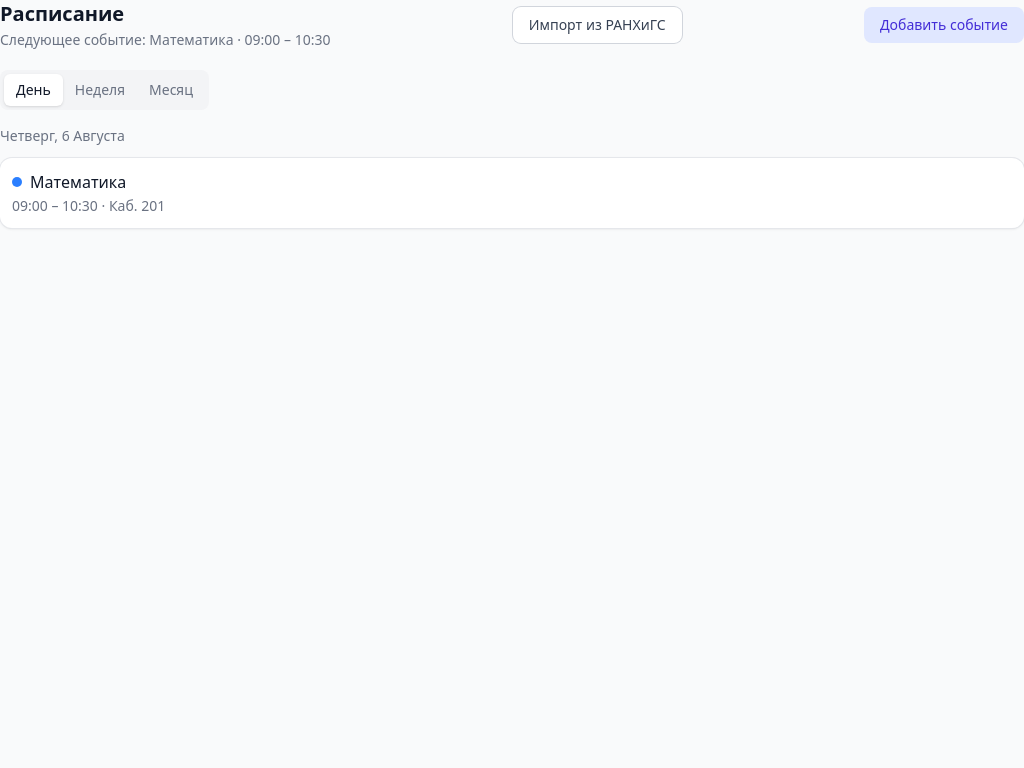
Test: SchedulePage › adds a lesson via the modal form
Click the button "Добавить событие". click: click(944, 25)
box: x1=864 y1=7 x2=1023 y2=43
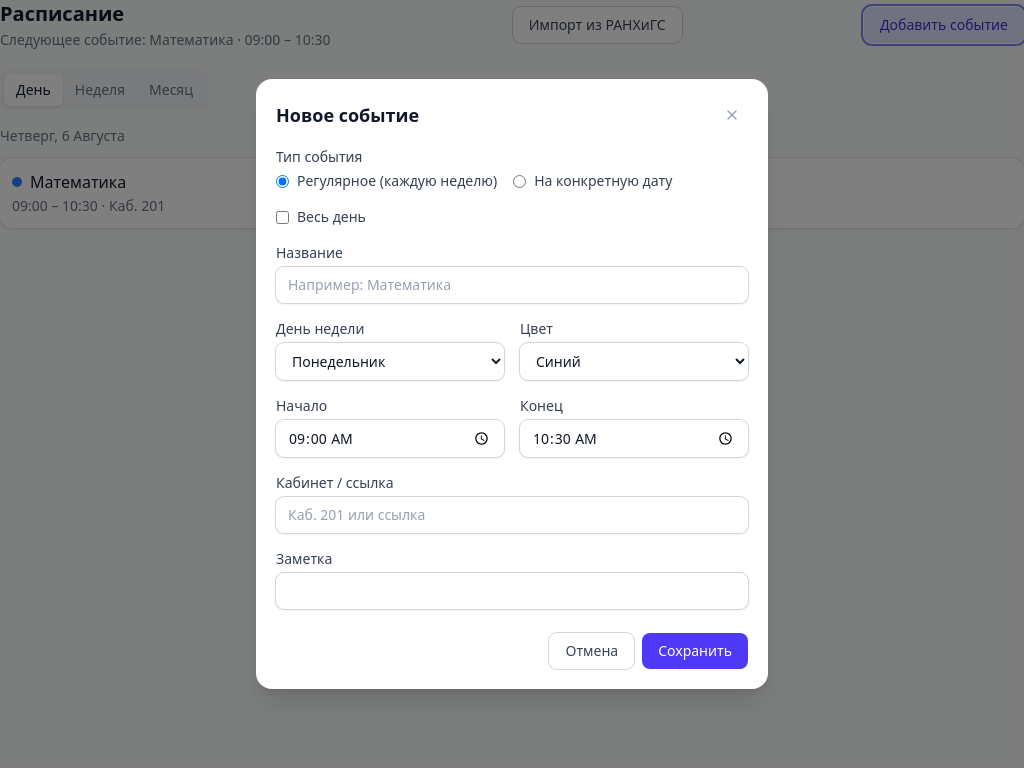
Type "Физика" into the field labelled "Название". click: (512, 285)
box: x1=276 y1=267 x2=748 y2=303
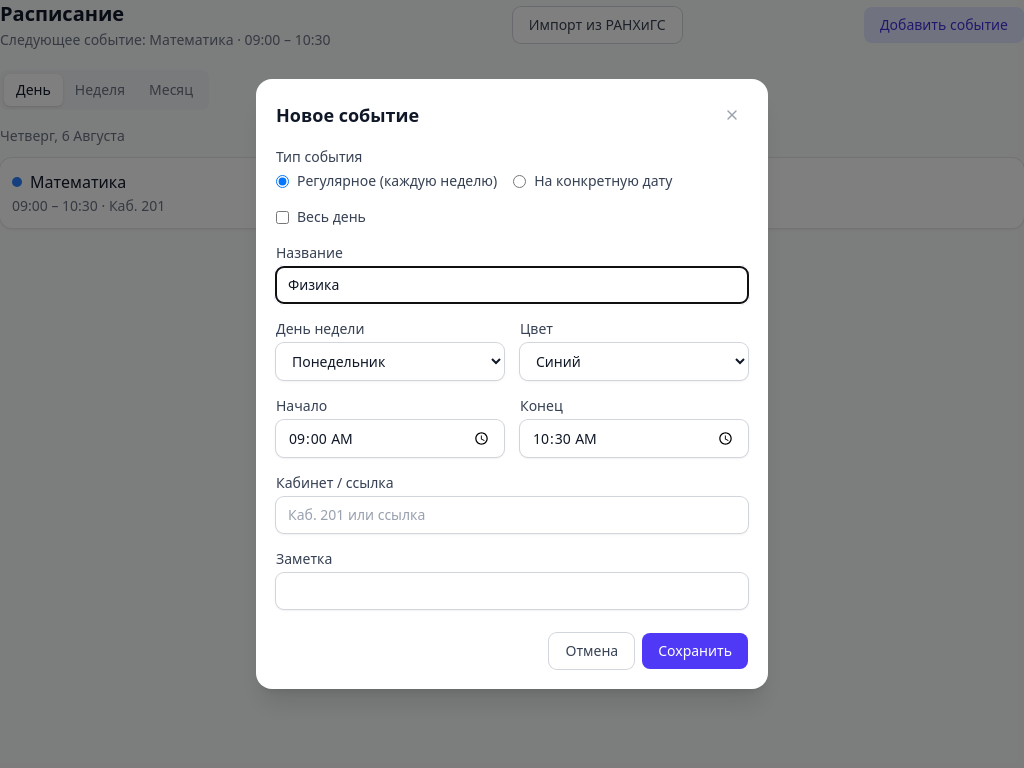
Select "Четверг" in the dropdown labelled "День недели". click: (390, 362)
box: x1=276 y1=343 x2=504 y2=380
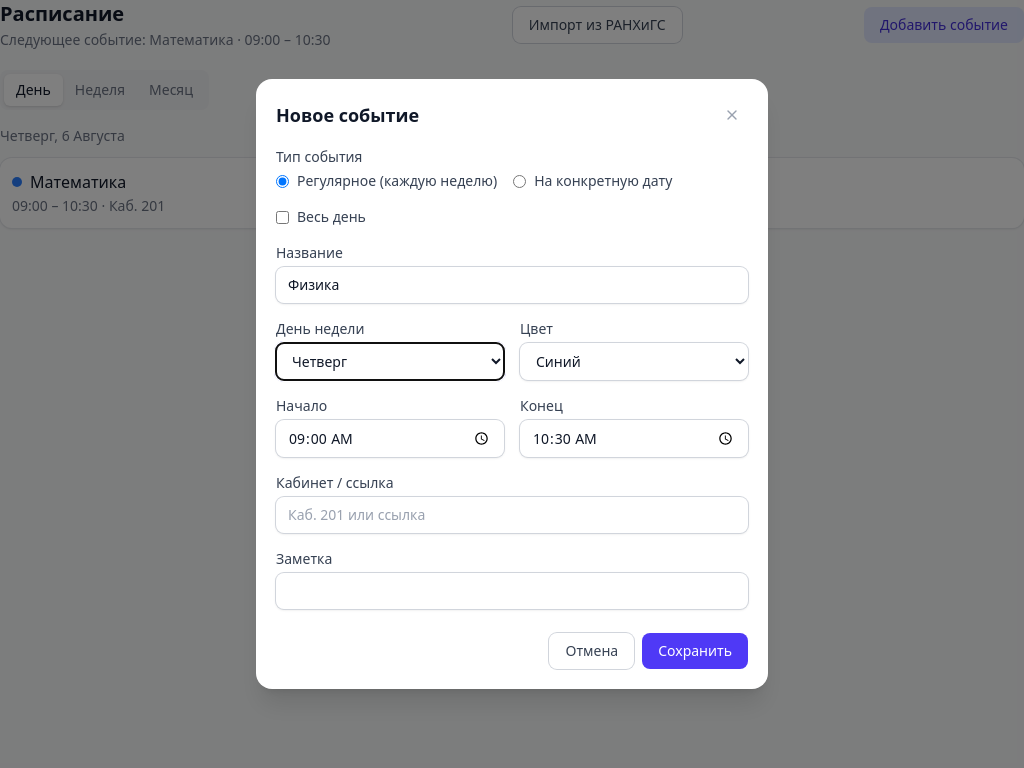
Click the button "Сохранить". click: click(695, 651)
box: x1=642 y1=633 x2=748 y2=669
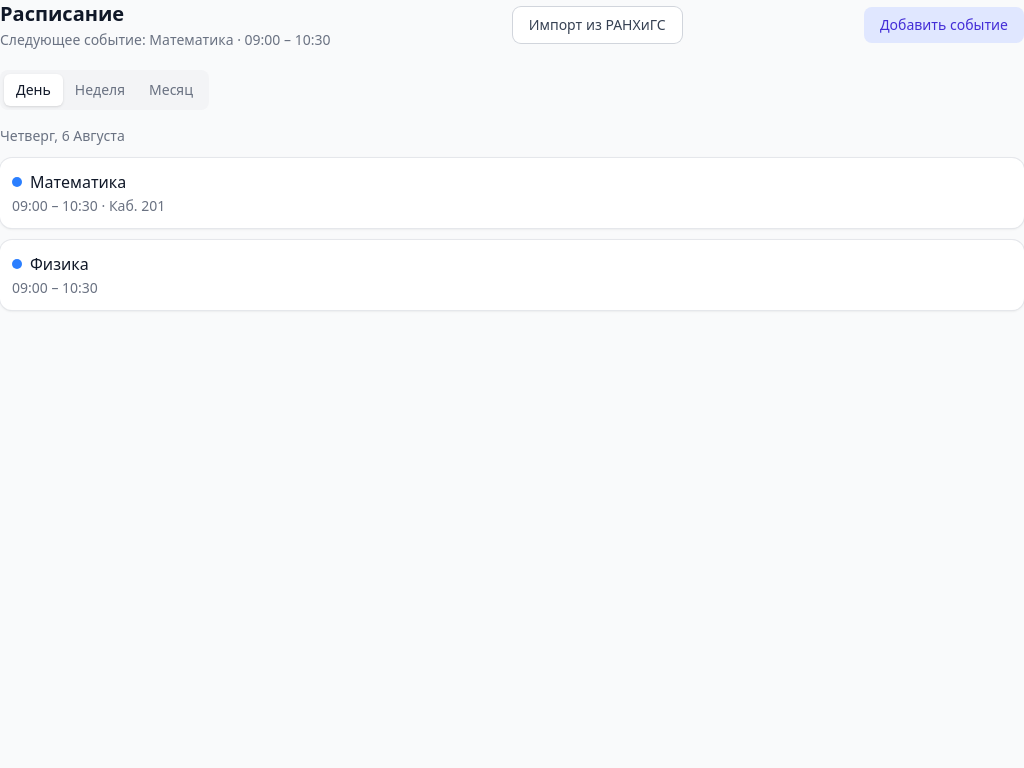
Now the text "Физика" is shown, box x1=30 y1=252 x2=89 y2=276
